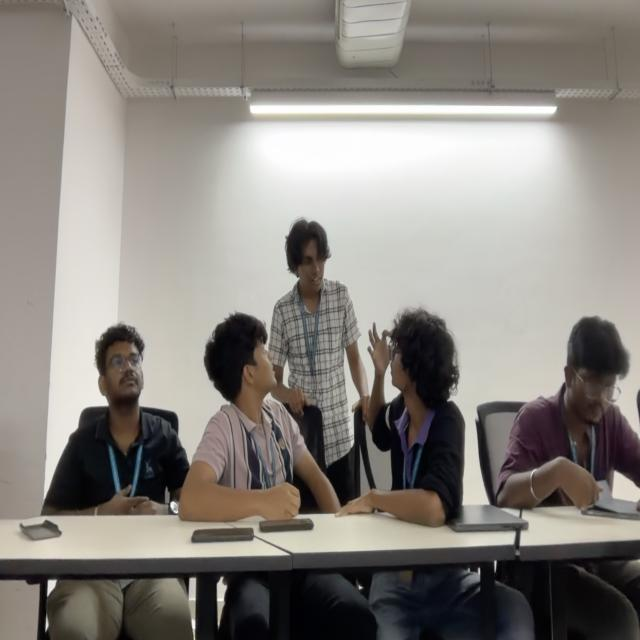Isolated: (496, 316, 640, 508), (40, 322, 177, 516)
socializing: (181, 218, 466, 525)
